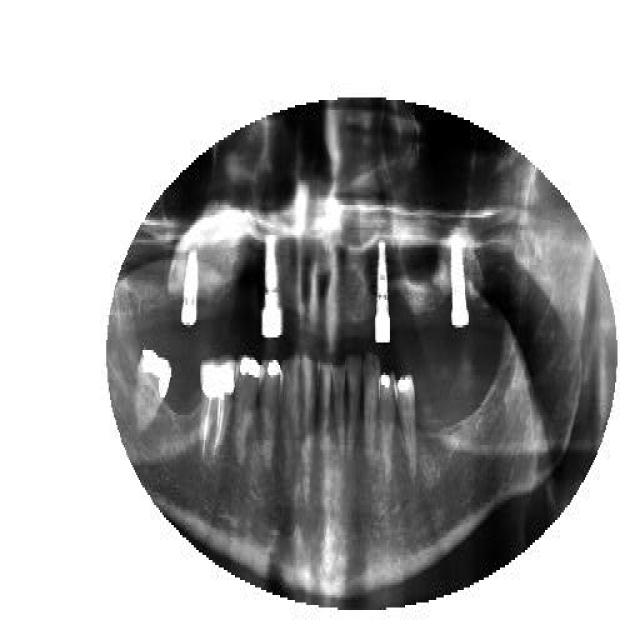Fillings: (134, 348, 174, 432), (234, 355, 261, 457), (393, 372, 418, 470), (262, 357, 282, 465), (378, 367, 394, 475)
Implant: (198, 355, 238, 457), (261, 232, 284, 340), (449, 230, 471, 330), (375, 240, 391, 345), (180, 243, 200, 325)
